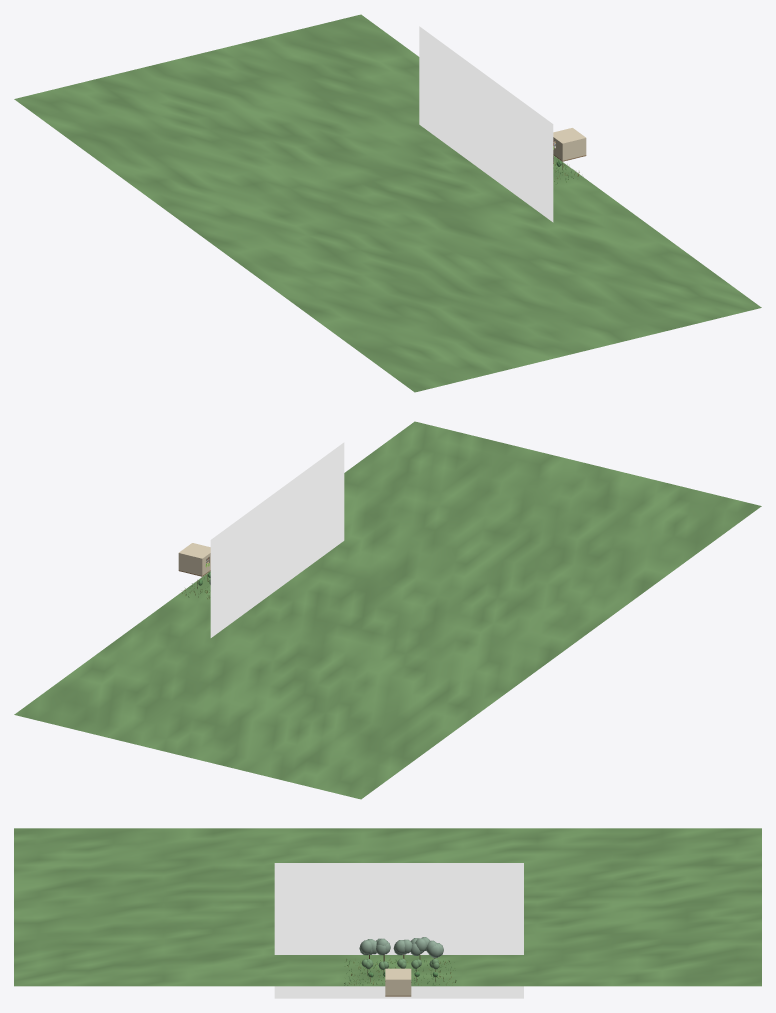
File: kitchen.glb
3 renders of one model, top to bottom at view 1: azimuth 30°, elevation 25°; view 2: azimuth 150°, elevation 25°; view 3: azimuth 270°, elevation 25°, orthographic. The views are drawn at different scales.
Parts seen in each view (by area): view 1: r22_exterior_lawn_ground, window_view_no_illumination; view 2: r22_exterior_lawn_ground, window_view_no_illumination; view 3: r22_exterior_lawn_ground, window_view_no_illumination, enclosure_right_wall, enclosure_ceiling.
Part boxes in pixels (x1=…): r22_exterior_lawn_ground: x1=14, y1=14, x2=761, y2=392; window_view_no_illumination: x1=419, y1=26, x2=553, y2=222; r22_exterior_lawn_ground: x1=14, y1=421, x2=761, y2=799; window_view_no_illumination: x1=210, y1=442, x2=344, y2=637; r22_exterior_lawn_ground: x1=14, y1=828, x2=761, y2=986; window_view_no_illumination: x1=274, y1=863, x2=523, y2=998; enclosure_right_wall: x1=385, y1=980, x2=411, y2=995; enclosure_ceiling: x1=385, y1=968, x2=411, y2=980.
Size of the model in its own units: 64.06 by 24 by 120.
64 materials, 6 textured.
